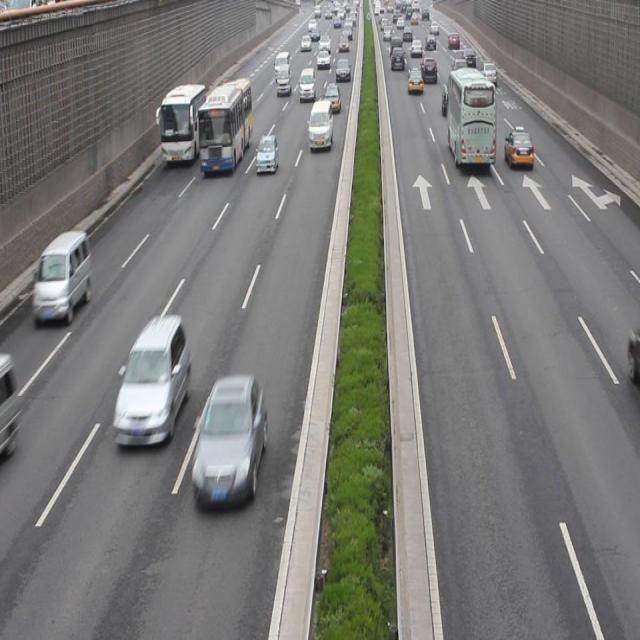car: (114, 314, 191, 448), (191, 377, 266, 506), (502, 128, 532, 171), (254, 133, 278, 175)
truck: (32, 231, 92, 322), (307, 100, 333, 150)
van: (198, 76, 252, 169), (447, 68, 494, 170), (159, 84, 205, 168)
